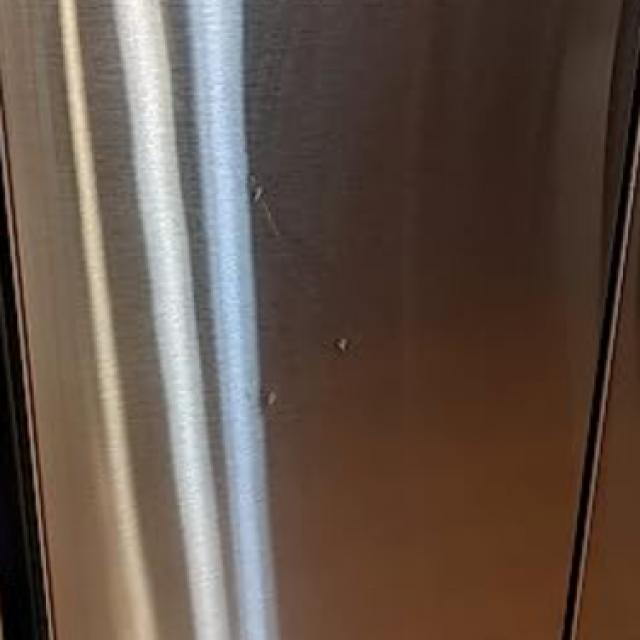dents: (322, 318, 366, 374), (243, 379, 294, 421)
